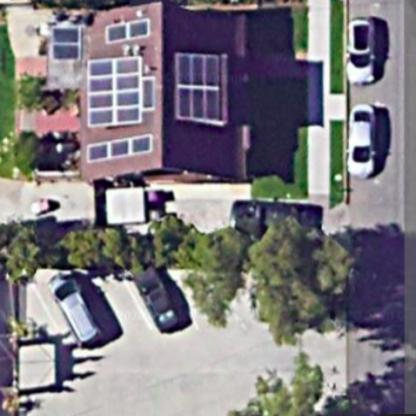car: (222, 188, 335, 263), (45, 268, 132, 351), (125, 263, 196, 343), (340, 8, 396, 94), (349, 94, 392, 186)
solar_panel: (166, 41, 236, 134), (83, 55, 157, 132), (81, 132, 174, 171), (46, 21, 88, 67), (103, 15, 153, 46)
